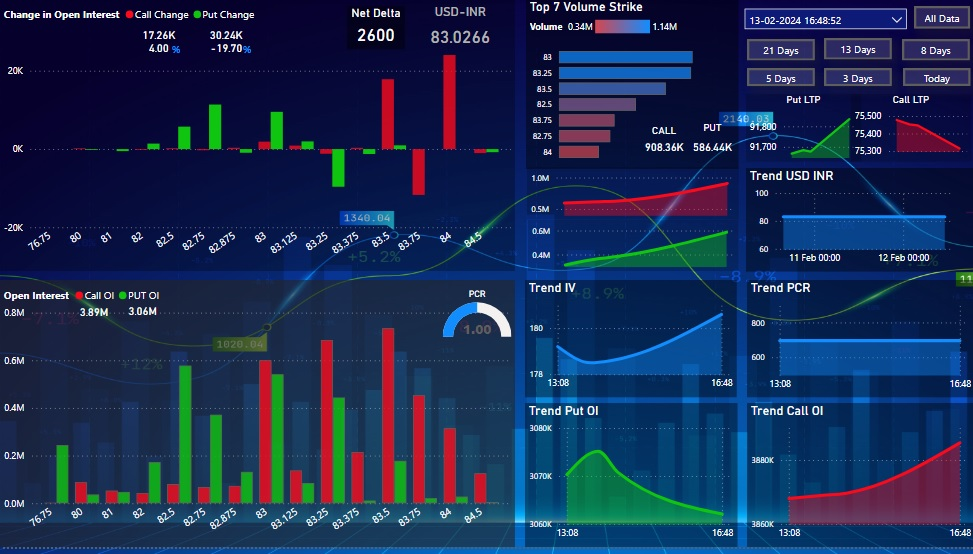

Layout of this report page (visuals, bound fields, positions):
{"tool":"powerbi","page":{"name":"Options","canvas":[1280,720],"ordinal":0},"visuals":[{"type":"card","title":"USD-INR","fields":{"Values":["Sum(Spot price.Spot)"]},"box":[520.9,8.9,119.1,65.9],"z":0},{"type":"lineClusteredColumnComboChart","fields":{"Y":["Sum(NSEnsi.Put chang OI)","Sum(NSEnsi.Call Chg OI)"],"Category":["NSEnsi.Strike - Text"]},"box":[0,0,675.5,357.4],"z":1000},{"type":"lineClusteredColumnComboChart","fields":{"Category":["NSEnsi.Strike - Text"],"Y":["Sum(NSEnsi.Put OI)","Sum(NSEnsi.Call OI)"]},"box":[0,368.8,675.5,351],"z":2000},{"type":"card","fields":{"Values":["Sum(NSEnsi.Put chang OI)"]},"box":[134.3,12.7,64.6,64.6],"z":3000},{"type":"card","fields":{"Values":["Sum(NSEnsi.Put OI)"]},"box":[90,377.7,65.9,63.4],"z":4000},{"type":"card","fields":{"Values":["Sum(NSEnsi.Call OI)"]},"box":[155.9,376.4,65.9,64.6],"z":5000},{"type":"card","fields":{"Values":["Sum(NSEnsi.Call Chg OI)"]},"box":[167.3,12.7,109,64.6],"z":6000},{"type":"gauge","title":"PCR ","fields":{"Y":["Sum(NSEnsi.PCR)"]},"box":[553.8,368.8,100.1,72.2],"z":7000},{"type":"clusteredBarChart","title":"Top 7 Volume Strike","fields":{"Y":["Sum(NSEnsi.Total Volume)"],"Category":["NSEnsi.Strike - Text"]},"box":[690,0,278.8,222.5],"z":8000},{"type":"card","title":"CALL","fields":{"Values":["Sum(NSEnsi.Call Vol)"]},"box":[839.6,165.2,63.8,45.6],"z":9000},{"type":"card","title":"PUT","fields":{"Values":["Sum(NSEnsi.Put Volume)"]},"box":[903.4,161.8,63.8,52.4],"z":10000},{"type":"card","fields":{"Values":["Sum(NSEnsi.% call ltp)"]},"box":[1202.8,211.1,63.9,49.4],"z":11000},{"type":"card","fields":{"Values":["Sum(NSEnsi.% put Ltp)"]},"box":[1209.4,113.3,50.6,24.4],"z":12000},{"type":"slicer","fields":{"Values":["NSEnsi.Date created"]},"box":[967.5,2.5,232.5,48.8],"z":13000},{"type":"areaChart","title":"Trend Put OI","fields":{"Y":["Sum(NSEnsi.Put OI)"],"Category":["NSEnsi.Date created"]},"box":[689.2,544.6,280.3,175.4],"z":14000},{"type":"areaChart","title":"Trend Call OI ","fields":{"Y":["Sum(NSEnsi.Call OI)"],"Category":["NSEnsi.Date created"]},"box":[980.9,544.6,299.6,175.4],"z":15000},{"type":"stackedAreaChart","title":"Trend Call IV ","fields":{"Y":["Sum(NSEnsi.Call IV)"],"Category":["NSEnsi.Date created"]},"box":[690.4,360,278,94.6],"z":16000},{"type":"areaChart","title":"Trend PCR","fields":{"Y":["Sum(NSEnsi.PCR)"],"Category":["NSEnsi.Date created"]},"box":[980.9,427.1,299.1,111.5],"z":17000},{"type":"areaChart","title":"Vol Trend","fields":{"Y":["Sum(NSEnsi.Call Vol)"],"Category":["NSEnsi.Date created"]},"box":[690.6,290.6,278.9,67.2],"z":18000},{"type":"areaChart","fields":{"Y":["Sum(NSEnsi.Put Volume)"],"Category":["NSEnsi.Date created"]},"box":[690.6,221.1,278.9,69.4],"z":19000},{"type":"areaChart","title":"Put LTP","fields":{"Y":["Sum(NSEnsi.Put LTP)"],"Category":["NSEnsi.Date created"]},"box":[981.1,118.9,298.9,97.2],"z":20000},{"type":"areaChart","title":"Call LTP","fields":{"Y":["Sum(NSEnsi.Call LTP)"],"Category":["NSEnsi.Date created"]},"box":[981.1,226.7,298.9,97.8],"z":21000},{"type":"stackedAreaChart","title":"Trend USD INR","fields":{"Y":["Sum(usd_inr_combined_historical_data.close)"],"Category":["usd_inr_combined_historical_data.timestamp"]},"box":[980.8,333.3,299.2,85.8],"z":22000},{"type":"actionButton","box":[1200,8.8,73.8,30],"z":23000},{"type":"actionButton","box":[980.8,52.3,89.2,28.5],"z":24000},{"type":"actionButton","box":[1081.5,51.5,89.2,28.5],"z":25000},{"type":"actionButton","box":[1184.6,52.3,89.2,28.5],"z":26000},{"type":"actionButton","box":[980.8,90,89.2,23.8],"z":27000},{"type":"actionButton","box":[1081.5,90,89.2,23.8],"z":28000},{"type":"actionButton","box":[1185,90,88.8,23.8],"z":29000},{"type":"textbox","box":[1241.7,113.9,31.7,42.2],"z":30000},{"type":"textbox","box":[1241.7,221.1,31.7,30],"z":31000},{"type":"stackedAreaChart","title":"Trend PUT IV ","fields":{"Y":["Sum(NSEnsi.Put IV)"],"Category":["NSEnsi.Date created"]},"box":[691.5,447.7,278,91.1],"z":32000},{"type":"card","fields":{"Values":["Sum(NSEnsi.Call LTP)"]},"box":[1164.2,211.7,64.2,49.2],"z":32001},{"type":"card","fields":{"Values":["Sum(NSEnsi.Put LTP)"]},"box":[1165,107.2,64.4,43.9],"z":32002}]}

Visuals, with their boxes in screenshot pixels (x1, y1, x2, y2), scaled from the page's 1280x720 canvas onto the 973x554 screenshot:
"USD-INR" card: 396 7 486 58
lineClusteredColumnComboChart - Sum(NSEnsi.Put chang OI) x Sum(NSEnsi.Call Chg OI): 0 0 513 275
lineClusteredColumnComboChart - NSEnsi.Strike - Text x Sum(NSEnsi.Put OI): 0 284 513 553
card - Sum(NSEnsi.Put chang OI): 102 10 151 59
card - Sum(NSEnsi.Put OI): 68 291 119 339
card - Sum(NSEnsi.Call OI): 119 290 169 339
card - Sum(NSEnsi.Call Chg OI): 127 10 210 59
"PCR " gauge: 421 284 497 339
"Top 7 Volume Strike" clusteredBarChart: 525 0 736 171
"CALL" card: 638 127 687 162
"PUT" card: 687 124 735 165
card - Sum(NSEnsi.% call ltp): 914 162 963 200
card - Sum(NSEnsi.% put Ltp): 919 87 958 106
slicer - NSEnsi.Date created: 735 2 912 39
"Trend Put OI" areaChart: 524 419 737 553
"Trend Call OI " areaChart: 746 419 972 553
"Trend Call IV " stackedAreaChart: 525 277 736 350
"Trend PCR" areaChart: 746 329 972 414
"Vol Trend" areaChart: 525 224 737 275
areaChart - Sum(NSEnsi.Put Volume) x NSEnsi.Date created: 525 170 737 224
"Put LTP" areaChart: 746 91 972 166
"Call LTP" areaChart: 746 174 972 250
"Trend USD INR" stackedAreaChart: 746 256 972 322
actionButton: 912 7 968 30
actionButton: 746 40 813 62
actionButton: 822 40 890 62
actionButton: 900 40 968 62
actionButton: 746 69 813 88
actionButton: 822 69 890 88
actionButton: 901 69 968 88
textbox: 944 88 968 120
textbox: 944 170 968 193
"Trend PUT IV " stackedAreaChart: 526 344 737 415
card - Sum(NSEnsi.Call LTP): 885 163 934 201
card - Sum(NSEnsi.Put LTP): 886 82 935 116
